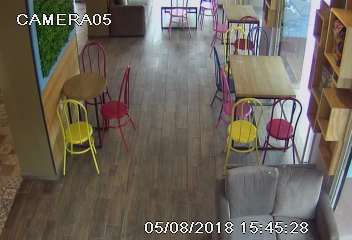libre: (208, 34, 294, 162), (50, 46, 139, 160), (214, 1, 268, 48)
